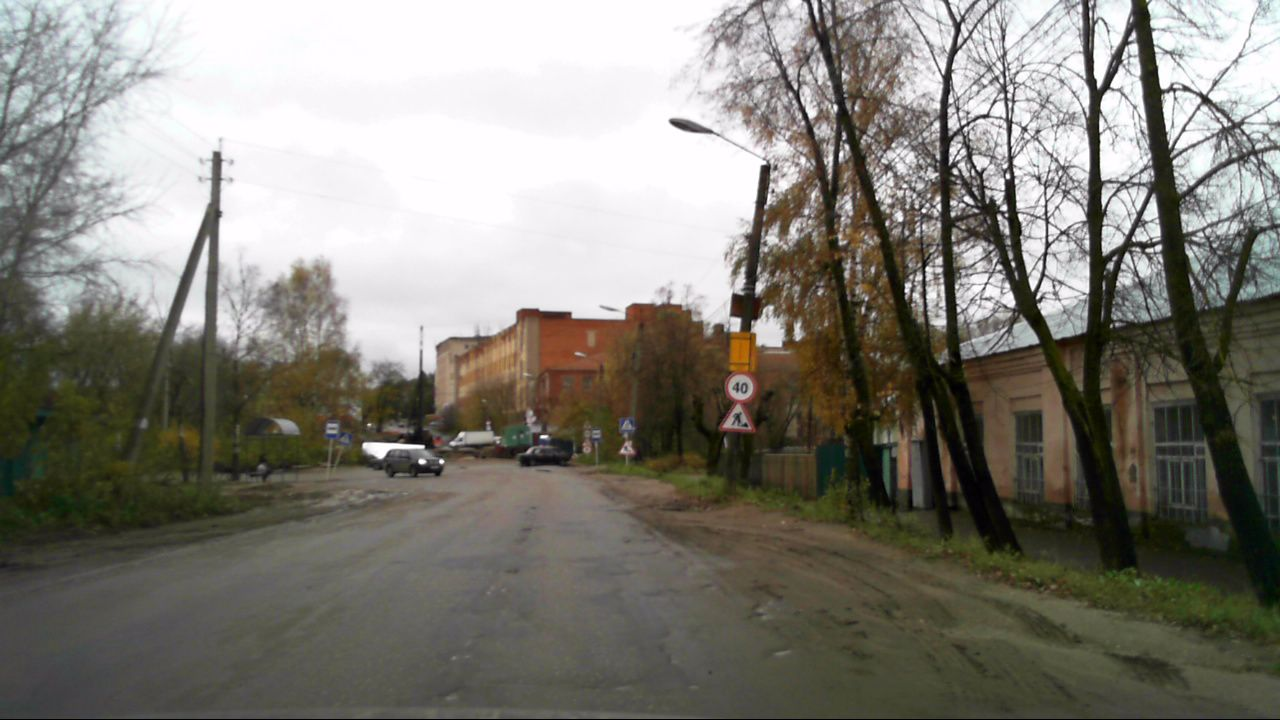speed_warning_40: (723, 369, 759, 402)
